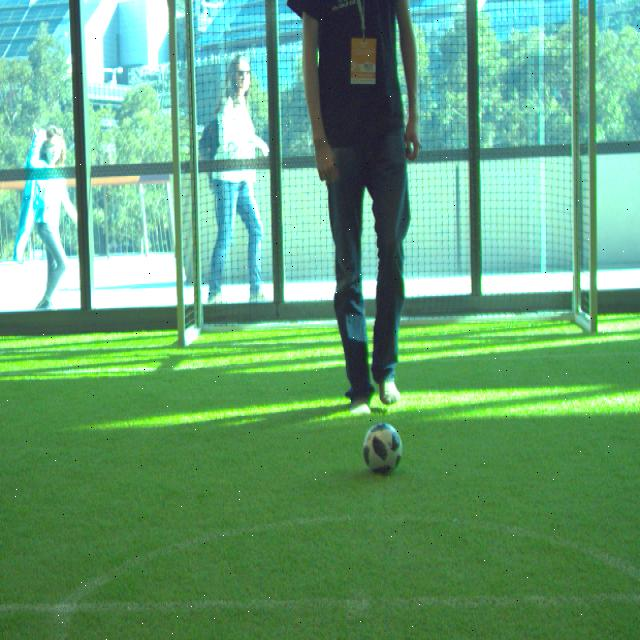ball: (364, 420, 402, 477)
goalpost: (168, 1, 188, 344), (588, 1, 599, 335)
